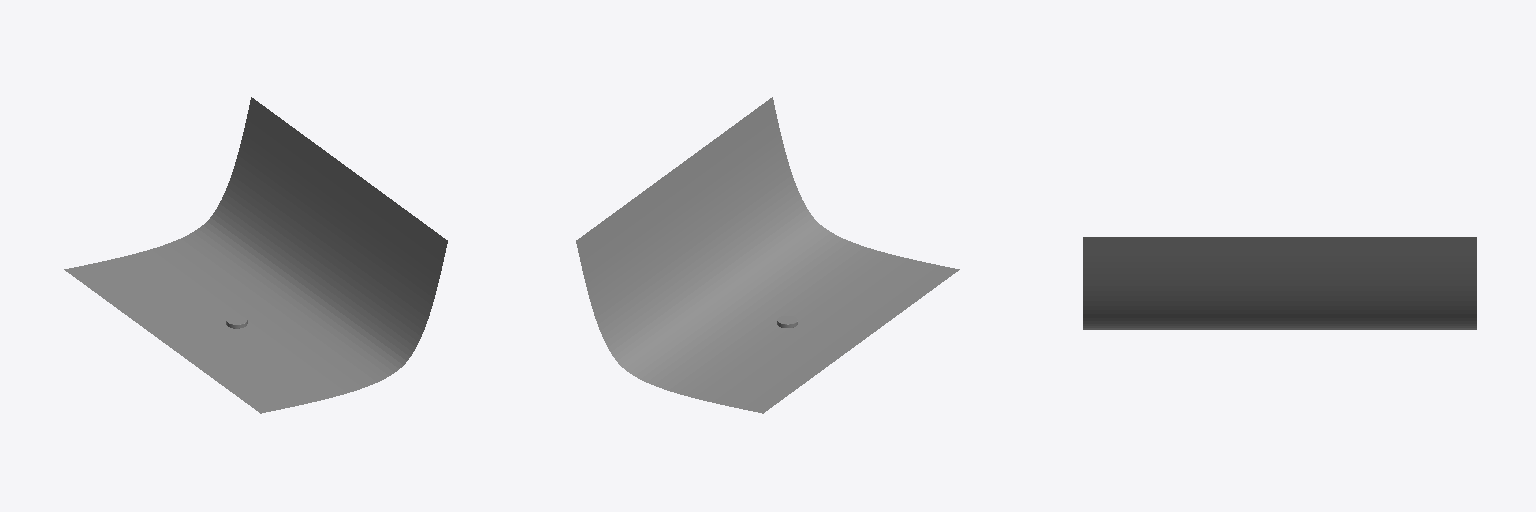
File: hockeypuck.obj
3 views of the same model, side by side, from view 1: azimuth 30°, elevation 25°; view 2: azimuth 150°, elevation 25°; view 3: azimuth 270°, elevation 25° (orthographic).
Visible parts, largest first — view 1: hockey_puck; view 2: hockey_puck; view 3: hockey_puck.
Part boxes in pixels (x1,y1,x2,y2): hockey_puck: (64, 97, 447, 413); hockey_puck: (576, 97, 959, 413); hockey_puck: (1083, 237, 1476, 329).
Size of the model in its own units: 61.01 by 40.01 by 111.